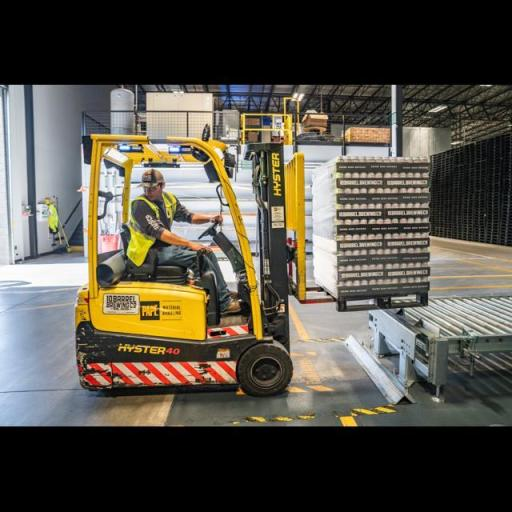Person: (121, 165, 236, 325)
boots: (216, 290, 250, 316)
helmet: (136, 166, 166, 190)
none: (187, 239, 218, 257), (200, 211, 232, 228)
vest: (122, 188, 180, 269), (46, 203, 62, 236)
